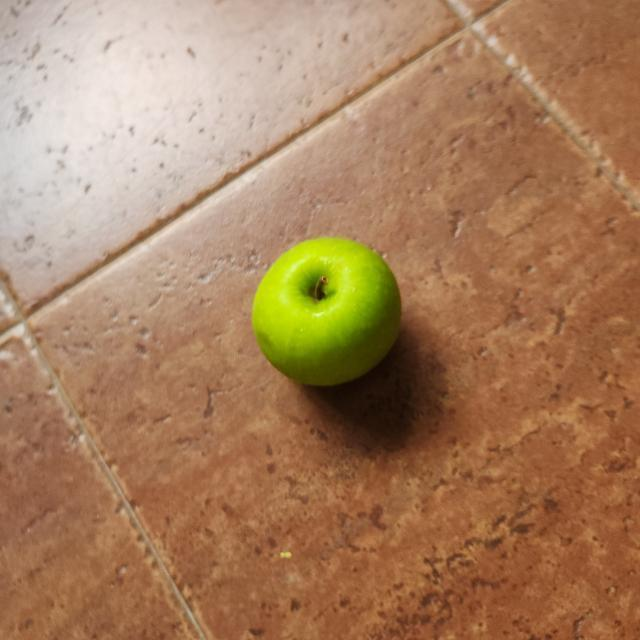apple: (250, 233, 404, 400)
